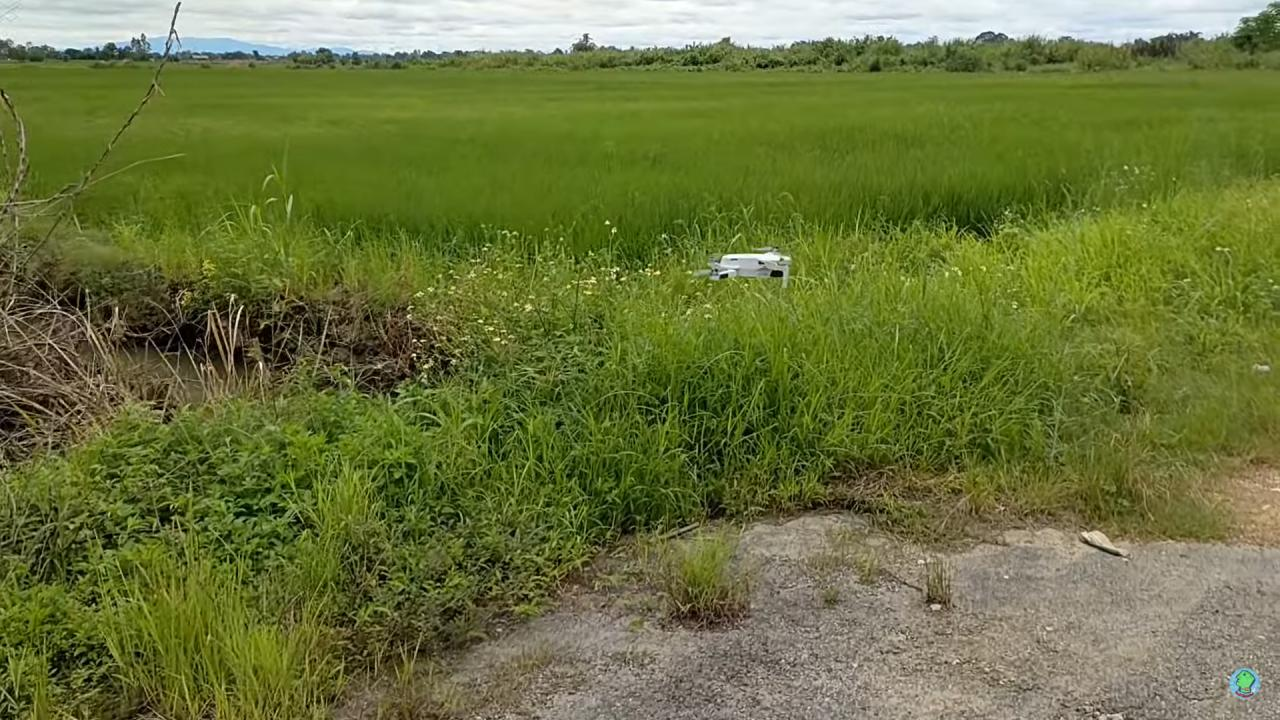Drone: (680, 234, 808, 299)
